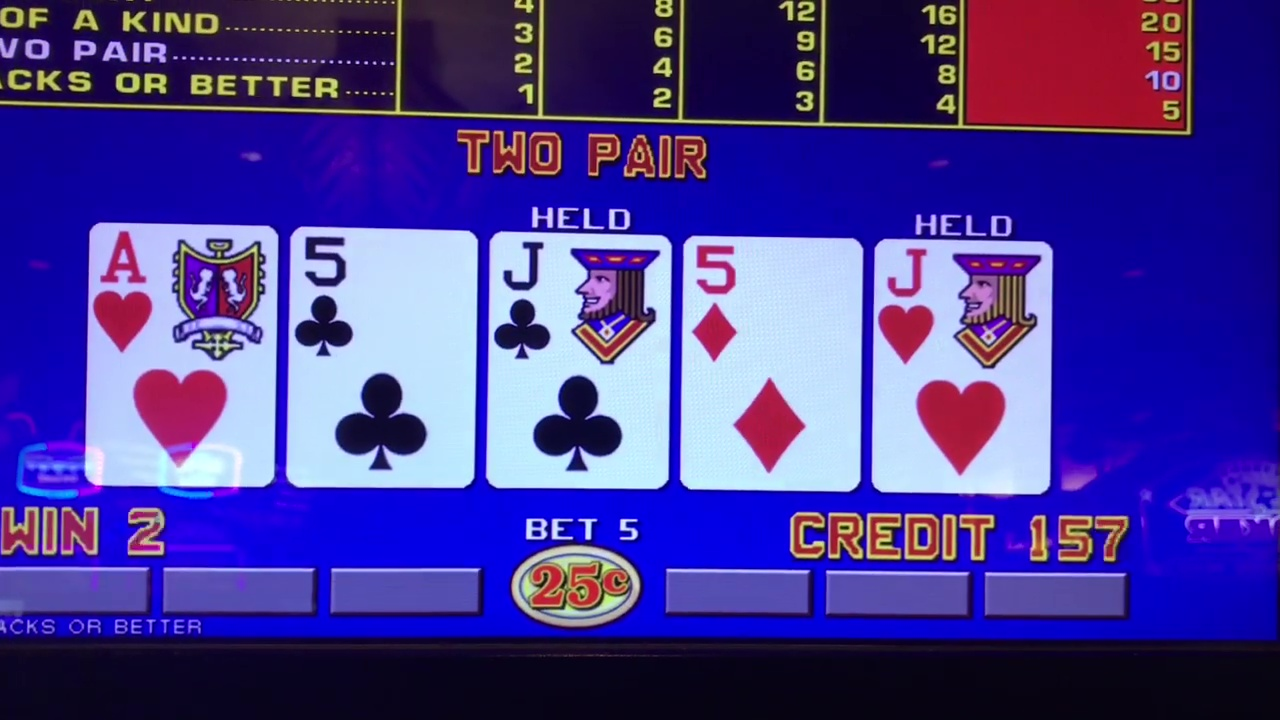C5: (293, 229, 469, 485)
CJ: (492, 235, 662, 486)
D5: (686, 238, 856, 486)
HA: (98, 228, 269, 479)
HJ: (873, 243, 1041, 492)
